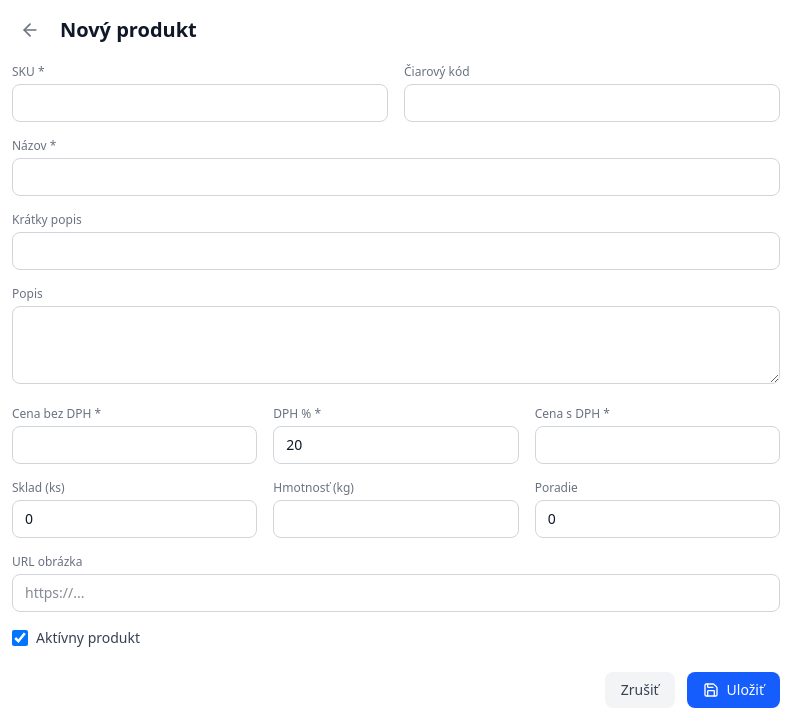
Test: EshopProductForm › shows validation errors for required fields
Click the button with test id "save-button" at (733, 690), box left=687, top=672, right=780, bottom=708
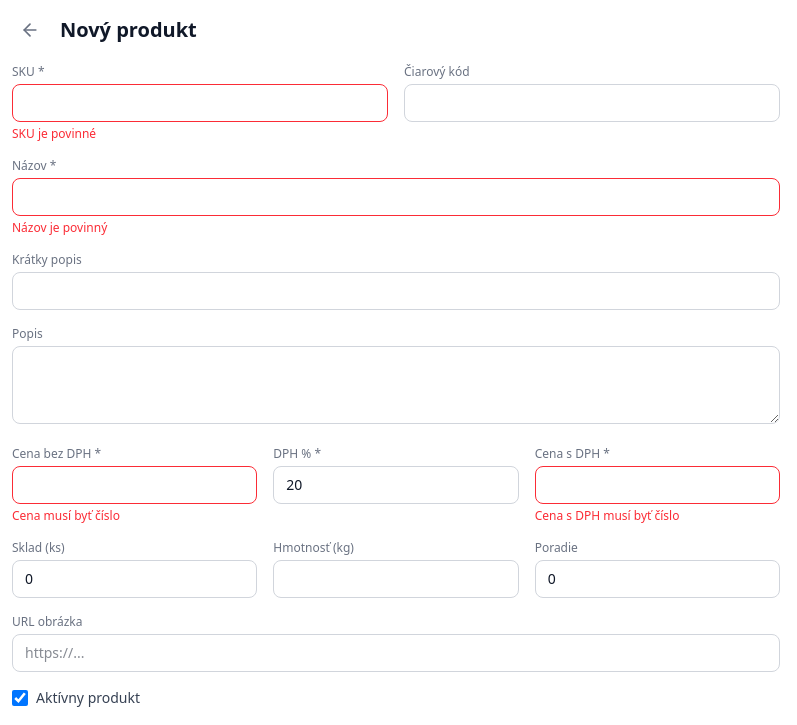
Expected: the text "SKU je povinné" is shown, left=12, top=125, right=96, bottom=142
Expected: the text "Názov je povinný" is shown, left=12, top=219, right=107, bottom=236
